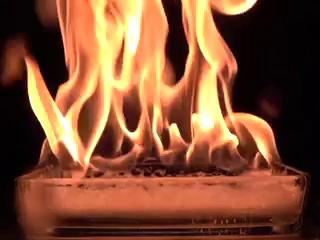Fire: (23, 0, 283, 170)
